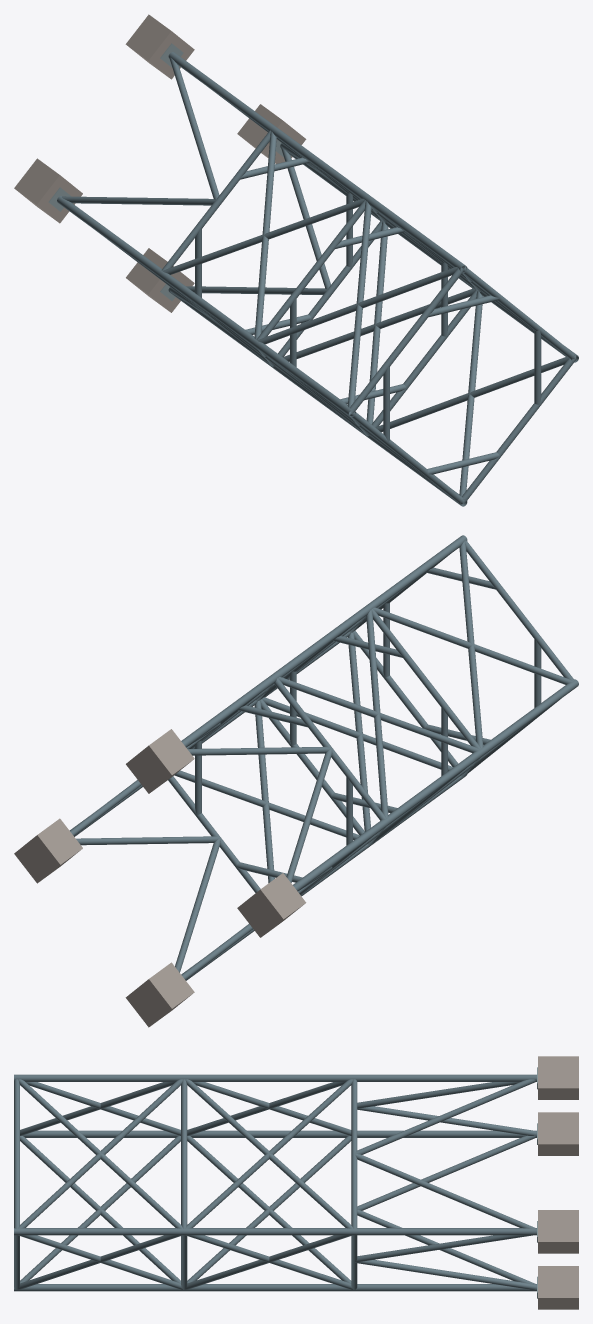
File: L41B02-钢塔架.obj
3 renders of one model, top to bottom at view 1: azimuth 30°, elevation 25°; view 2: azimuth 150°, elevation 25°; view 3: azimuth 270°, elevation 25°, orthographic. The views are drawn at different scales.
Visible parts, largest first — view 1: 钢塔架_GJ03交叉撑, 钢塔架_GJ02水平杆, 钢塔架_GJ01立柱, 支墩_混凝土, 钢塔架_GJ04限位杆, 钢塔架_GJ03倒V撑, 钢塔架_柱脚板; view 2: 钢塔架_GJ03交叉撑, 支墩_混凝土, 钢塔架_GJ01立柱, 钢塔架_GJ02水平杆, 钢塔架_GJ03倒V撑, 钢塔架_GJ04限位杆; view 3: 钢塔架_GJ03交叉撑, 钢塔架_GJ01立柱, 钢塔架_GJ03倒V撑, 支墩_混凝土, 钢塔架_GJ02水平杆.
Boxes of the visible parts, x1,y1,x2,y2 form: 钢塔架_GJ03交叉撑: [162, 131, 575, 499]; 钢塔架_GJ02水平杆: [161, 130, 576, 504]; 钢塔架_GJ01立柱: [57, 52, 578, 506]; 支墩_混凝土: [14, 14, 306, 312]; 钢塔架_GJ04限位杆: [195, 157, 541, 474]; 钢塔架_GJ03倒V撑: [62, 57, 330, 320]; 钢塔架_柱脚板: [48, 43, 283, 300]; 钢塔架_GJ03交叉撑: [174, 541, 573, 894]; 支墩_混凝土: [14, 729, 306, 1027]; 钢塔架_GJ01立柱: [69, 535, 578, 980]; 钢塔架_GJ02水平杆: [168, 540, 574, 894]; 钢塔架_GJ03倒V撑: [70, 722, 332, 979]; 钢塔架_GJ04限位杆: [195, 567, 541, 882]; 钢塔架_GJ03交叉撑: [18, 1079, 353, 1289]; 钢塔架_GJ01立柱: [14, 1074, 536, 1291]; 钢塔架_GJ03倒V撑: [354, 1079, 536, 1289]; 支墩_混凝土: [538, 1056, 578, 1309]; 钢塔架_GJ02水平杆: [14, 1079, 357, 1289].
Size of the model in its own units: 4.1 by 4.1 by 8.3.
